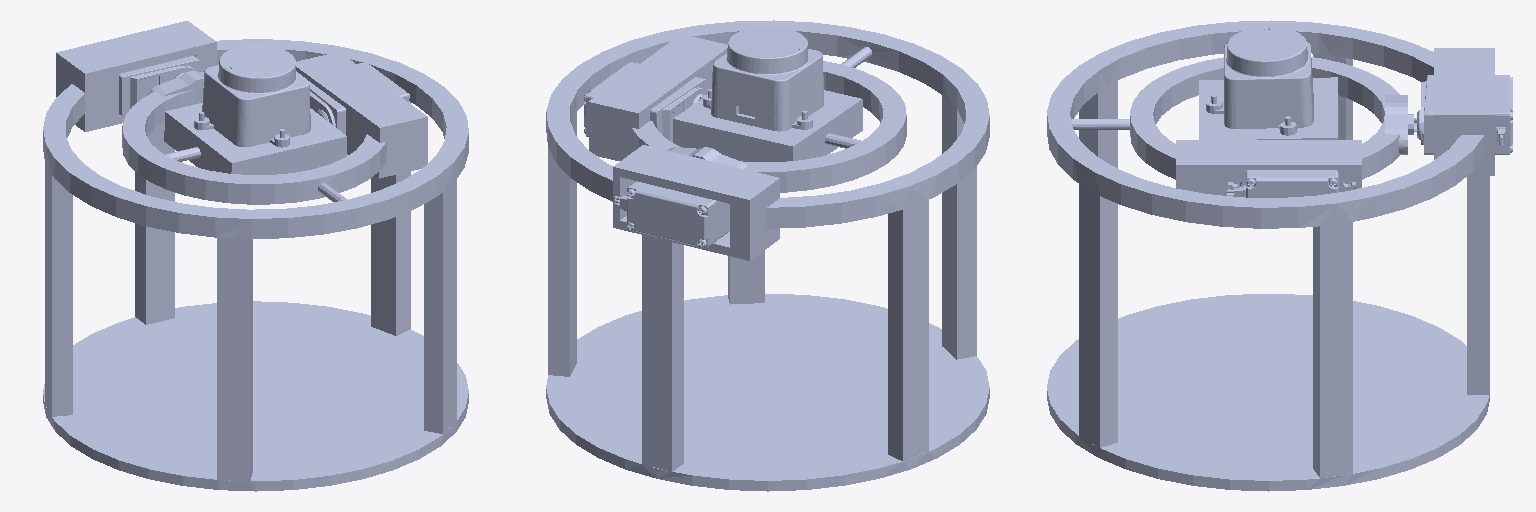
The robot description file, URDF, robot "ROBOTLIDARABS":
<?xml version="1.0" encoding="utf-8"?>
<!-- This URDF was automatically created by SolidWorks to URDF Exporter! Originally created by Stephen Brawner (brawner@gmail.com) 
     Commit Version: 1.6.0-4-g7f85cfe  Build Version: 1.6.7995.38578
     For more information, please see http://wiki.ros.org/sw_urdf_exporter -->
<robot
  name="ROBOTLIDARABS">
  <link
    name="ANEL_EXTERIOR">
    <inertial>
      <origin
        xyz="-0.0016845 0.057135 -0.010584"
        rpy="0 0 0" />
      <mass
        value="0.32949" />
      <inertia
        ixx="0.0022513"
        ixy="4.0443E-05"
        ixz="-4.1317E-05"
        iyy="0.0021283"
        iyz="0.00025534"
        izz="0.002012" />
    </inertial>
    <visual>
      <origin
        xyz="0 0 0"
        rpy="0 0 0" />
      <geometry>
        <mesh
          filename="package://ROBOTLIDARABS/meshes/ANEL_EXTERIOR.STL" />
      </geometry>
      <material
        name="">
        <color
          rgba="0.79216 0.81961 0.93333 1" />
      </material>
    </visual>
    <collision>
      <origin
        xyz="0 0 0"
        rpy="0 0 0" />
      <geometry>
        <mesh
          filename="package://ROBOTLIDARABS/meshes/ANEL_EXTERIOR.STL" />
      </geometry>
    </collision>
  </link>
  <link
    name="ANEL_INTERIOR">
    <inertial>
      <origin
        xyz="0.029334 -0.00037252 -0.0011071"
        rpy="0 0 0" />
      <mass
        value="0.080301" />
      <inertia
        ixx="8.6625E-05"
        ixy="1.4464E-06"
        ixz="-2.2357E-06"
        iyy="0.0002005"
        iyz="2.8305E-08"
        izz="0.00011994" />
    </inertial>
    <visual>
      <origin
        xyz="0 0 0"
        rpy="0 0 0" />
      <geometry>
        <mesh
          filename="package://ROBOTLIDARABS/meshes/ANEL_INTERIOR.STL" />
      </geometry>
      <material
        name="">
        <color
          rgba="0.79216 0.81961 0.93333 1" />
      </material>
    </visual>
    <collision>
      <origin
        xyz="0 0 0"
        rpy="0 0 0" />
      <geometry>
        <mesh
          filename="package://ROBOTLIDARABS/meshes/ANEL_INTERIOR.STL" />
      </geometry>
    </collision>
  </link>
  <joint
    name="ANEL_INTERIOR_JOINT"
    type="continuous">
    <origin
      xyz="0 0 0.13"
      rpy="1.5708 0 0" />
    <parent
      link="ANEL_EXTERIOR" />
    <child
      link="ANEL_INTERIOR" />
    <axis
      xyz="0 0 1" />
  </joint>
  <link
    name="PLATAFORMA">
    <inertial>
      <origin
        xyz="0.0003197 0.0094512 5.8712E-05"
        rpy="0 0 0" />
      <mass
        value="0.095647" />
      <inertia
        ixx="3.6155E-05"
        ixy="1.4164E-07"
        ixz="5.2965E-09"
        iyy="4.2386E-05"
        iyz="1.7595E-07"
        izz="3.7022E-05" />
    </inertial>
    <visual>
      <origin
        xyz="0 0 0"
        rpy="0 0 0" />
      <geometry>
        <mesh
          filename="package://ROBOTLIDARABS/meshes/PLATAFORMA.STL" />
      </geometry>
      <material
        name="">
        <color
          rgba="0.79216 0.81961 0.93333 1" />
      </material>
    </visual>
    <collision>
      <origin
        xyz="0 0 0"
        rpy="0 0 0" />
      <geometry>
        <mesh
          filename="package://ROBOTLIDARABS/meshes/PLATAFORMA.STL" />
      </geometry>
    </collision>
  </link>
  <joint
    name="PLATAFORMA_JOINT"
    type="continuous">
    <origin
      xyz="0 0 0"
      rpy="0 0 0.050797" />
    <parent
      link="ANEL_INTERIOR" />
    <child
      link="PLATAFORMA" />
    <axis
      xyz="0.99798 -0.063454 0" />
  </joint>
</robot>

--- What the picture shows (computed from the rendered views, not written in the file) ---
The picture shows the robot from 3 angles, left to right: view 1: azimuth 30°, elevation 25°; view 2: azimuth 150°, elevation 25°; view 3: azimuth 270°, elevation 25°; orthographic projection.
Model ROBOTLIDARABS with 3 links and 2 joints (2 continuous), rooted at ANEL_EXTERIOR, posed all joints at 0.
Links seen in each view (by area): view 1: ANEL_EXTERIOR, ANEL_INTERIOR, PLATAFORMA; view 2: ANEL_EXTERIOR, ANEL_INTERIOR, PLATAFORMA; view 3: ANEL_EXTERIOR, ANEL_INTERIOR, PLATAFORMA.
Boxes of the visible links, left/top/right/bottom form: ANEL_EXTERIOR: left=43, top=21, right=468, bottom=491; ANEL_INTERIOR: left=122, top=52, right=427, bottom=204; PLATAFORMA: left=164, top=45, right=346, bottom=174; ANEL_EXTERIOR: left=546, top=20, right=989, bottom=491; ANEL_INTERIOR: left=584, top=34, right=906, bottom=192; PLATAFORMA: left=673, top=27, right=862, bottom=161; ANEL_EXTERIOR: left=1047, top=20, right=1512, bottom=491; ANEL_INTERIOR: left=1071, top=57, right=1413, bottom=197; PLATAFORMA: left=1199, top=27, right=1338, bottom=139.
Bounding box of the posed robot: 0.1914 × 0.2013 × 0.1693 m (x, y, z).
Meshes: 3 distinct files referenced, 3 mesh visuals loaded (3 binary STL).
